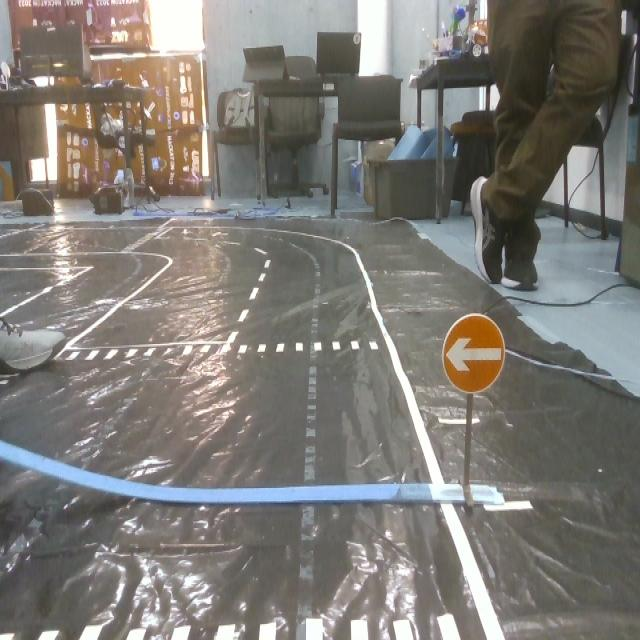forward: (438, 311, 508, 397)
